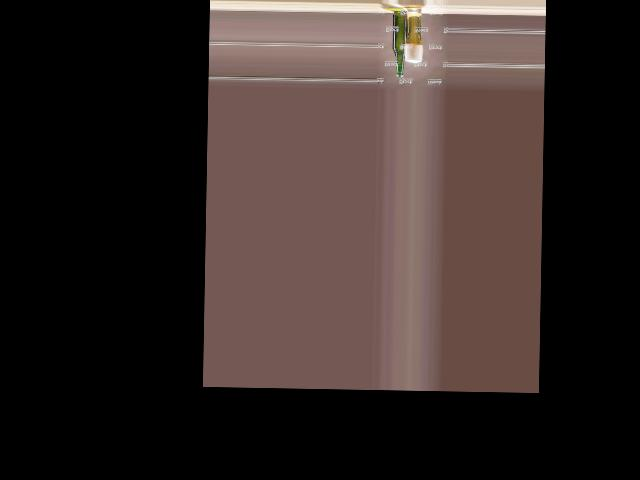beer: (392, 10, 408, 77)
